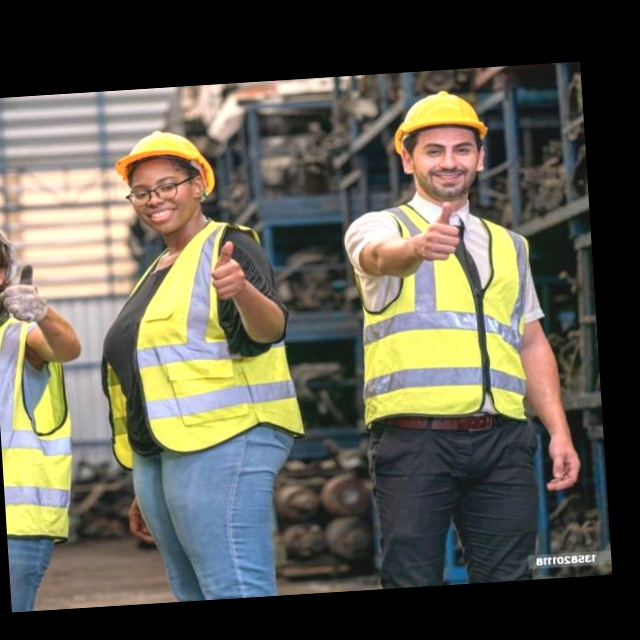Con_Casco: (386, 90, 493, 203), (113, 128, 217, 237)
Con_Chaleco: (91, 220, 301, 448), (349, 199, 541, 422)
